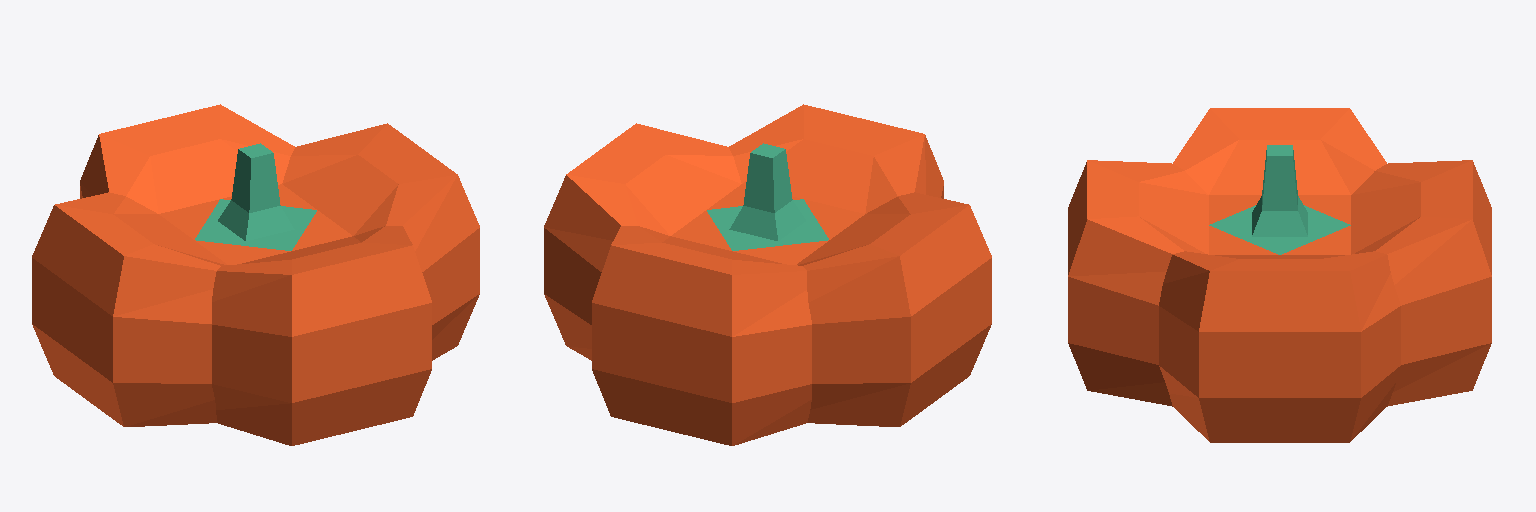
Rendered from pumpkin.obj.
3 renders of one model, left to right at view 1: azimuth 30°, elevation 25°; view 2: azimuth 150°, elevation 25°; view 3: azimuth 270°, elevation 25°, orthographic.
Visible parts, largest first — view 1: pumpkin; view 2: pumpkin; view 3: pumpkin.
Part boxes in pixels (left/top/right/bottom): pumpkin: left=32, top=104, right=479, bottom=445; pumpkin: left=544, top=104, right=991, bottom=445; pumpkin: left=1068, top=108, right=1491, bottom=442.
Bounding box in the file's own units: 0.4189 × 0.2291 × 0.4189.